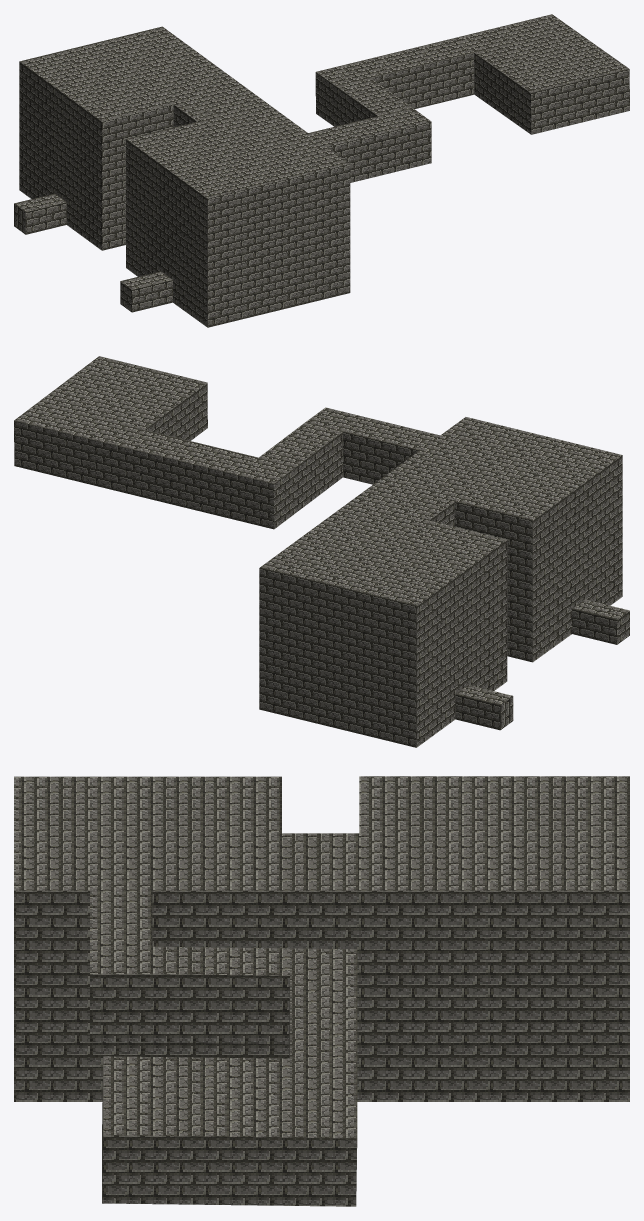
3 renders of one model, top to bottom at view 1: azimuth 30°, elevation 25°; view 2: azimuth 150°, elevation 25°; view 3: azimuth 270°, elevation 25°, orthographic. The views are drawn at different scales.
Parts seen in each view (by area): view 1: Plane_Plane_None_35.png; view 2: Plane_Plane_None_35.png; view 3: Plane_Plane_None_35.png.
Part boxes in pixels (bbox=[...]): Plane_Plane_None_35.png: bbox=[14, 14, 629, 327]; Plane_Plane_None_35.png: bbox=[14, 356, 629, 747]; Plane_Plane_None_35.png: bbox=[14, 776, 629, 1206].
Bounding box in the file's own units: 0.24 × 0.0605 × 0.1593.
